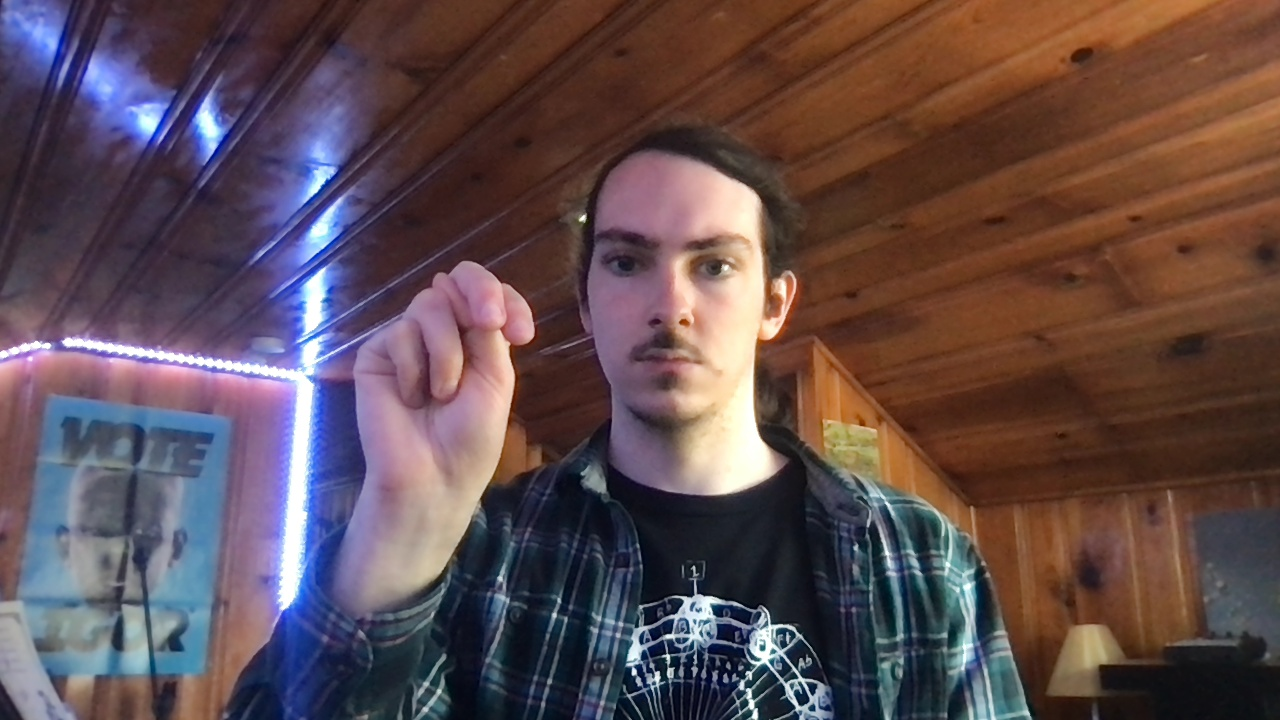n: (351, 259, 539, 502)
